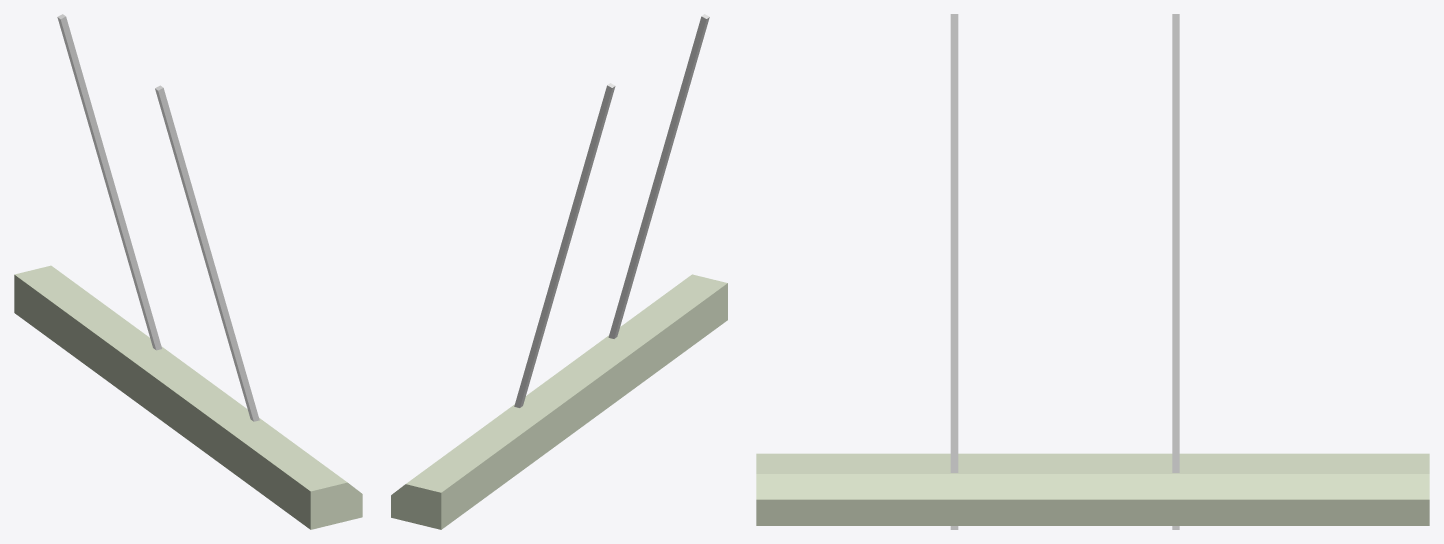
File: panoramic Lists.fbx
The picture shows the model from 3 angles, left to right: view 1: azimuth 30°, elevation 25°; view 2: azimuth 150°, elevation 25°; view 3: azimuth 270°, elevation 25°; orthographic projection. The views are drawn at different scales.
Visible parts, largest first — view 1: list, panoramic Lists; view 2: list, panoramic Lists; view 3: list, panoramic Lists.
Part boxes in pixels (x1,y1,x2,y2): list: (14, 265, 362, 529); panoramic Lists: (57, 14, 259, 421); list: (391, 274, 727, 529); panoramic Lists: (514, 14, 709, 407); list: (756, 453, 1429, 525); panoramic Lists: (950, 14, 1179, 529).
Size of the model in its own units: 1.14 by 3.7 by 4.94.
